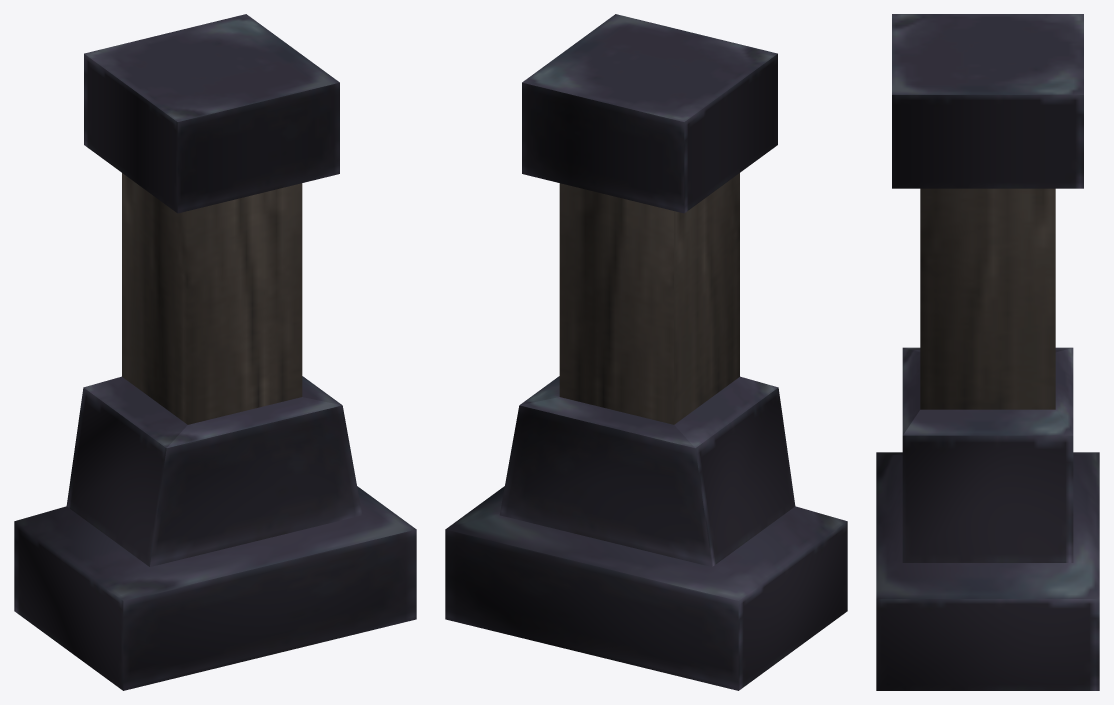
File: yw_bingyuan_chuanzhu_001.FBX
3 views of the same model, side by side, from view 1: azimuth 30°, elevation 25°; view 2: azimuth 150°, elevation 25°; view 3: azimuth 270°, elevation 25° (orthographic). The views are drawn at different scales.
Visible parts, largest first — view 1: yw_bingyuan_chuanzhu_001; view 2: yw_bingyuan_chuanzhu_001; view 3: yw_bingyuan_chuanzhu_001.
Part boxes in pixels (x1,y1,x2,y2): yw_bingyuan_chuanzhu_001: (14, 14, 416, 690); yw_bingyuan_chuanzhu_001: (445, 14, 847, 690); yw_bingyuan_chuanzhu_001: (876, 14, 1099, 690).
Bounding box in the file's own units: 3.63 × 2.33 × 6.48.
